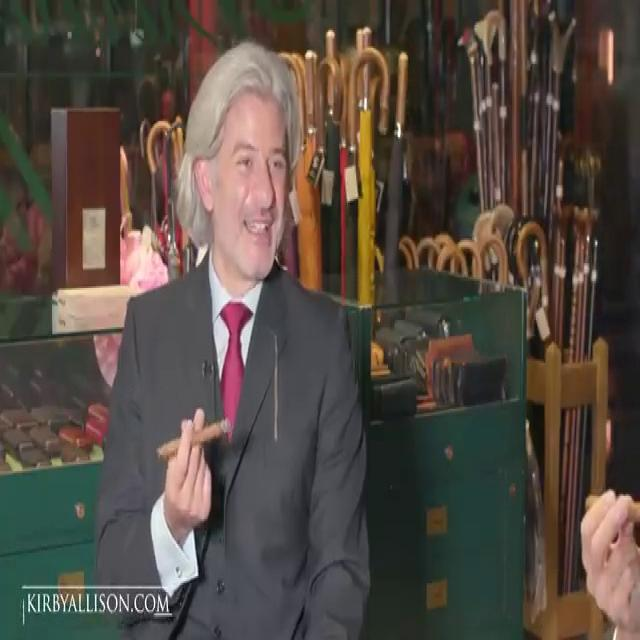Smooking: (151, 399, 239, 462)
